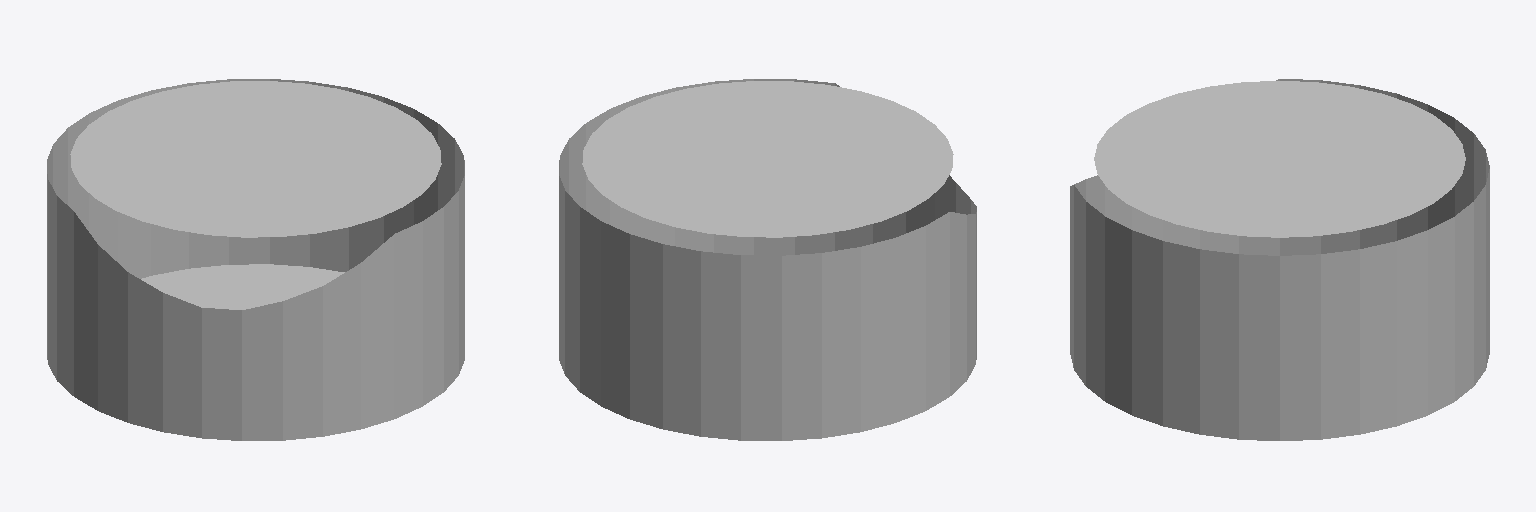
Rendered from eraser.obj.
3 renders of one model, left to right at view 1: azimuth 30°, elevation 25°; view 2: azimuth 150°, elevation 25°; view 3: azimuth 270°, elevation 25°, orthographic.
Parts seen in each view (by area): view 1: Cylinder; view 2: Cylinder; view 3: Cylinder.
Part boxes in pixels (left/top/right/bottom): Cylinder: left=47, top=79, right=464, bottom=440; Cylinder: left=559, top=79, right=976, bottom=440; Cylinder: left=1070, top=79, right=1489, bottom=440.
Size of the model in its own units: 0.59 by 0.3 by 0.59.